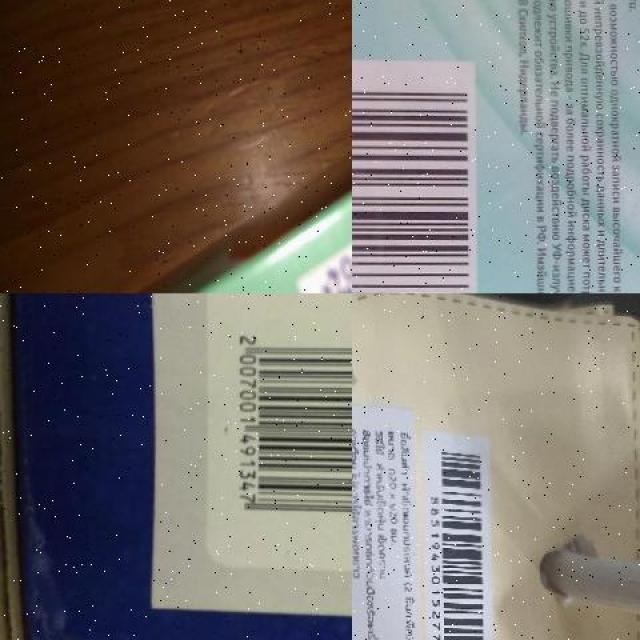Barcode: (212, 294, 352, 554), (352, 58, 475, 294), (428, 438, 490, 640)
